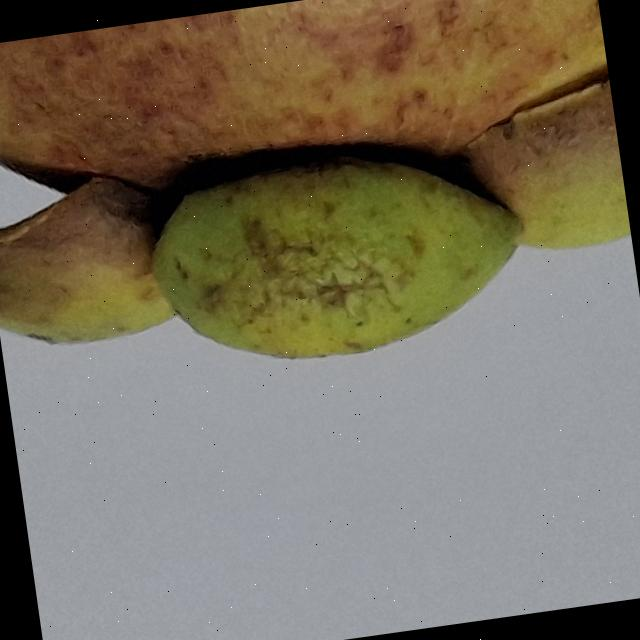mangosteen: (0, 0, 640, 488)
